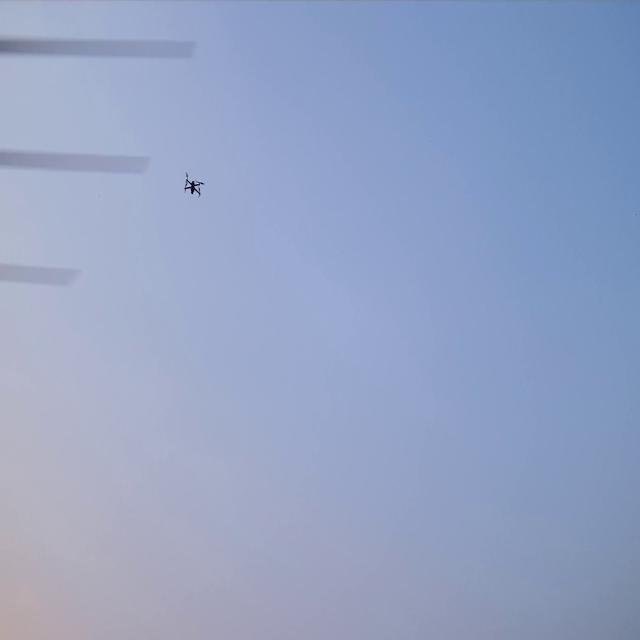UAV: (183, 170, 205, 199)
